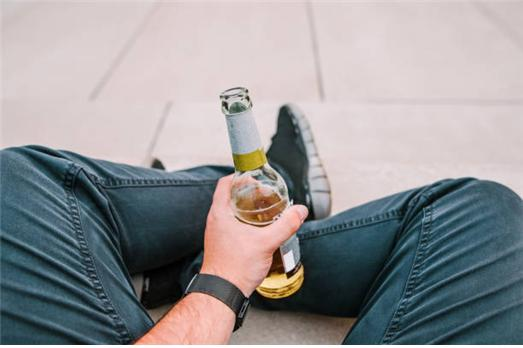alcohol: (220, 87, 302, 301)
